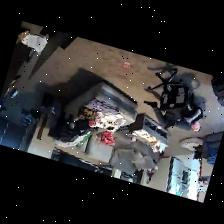person: (144, 100, 202, 130)
